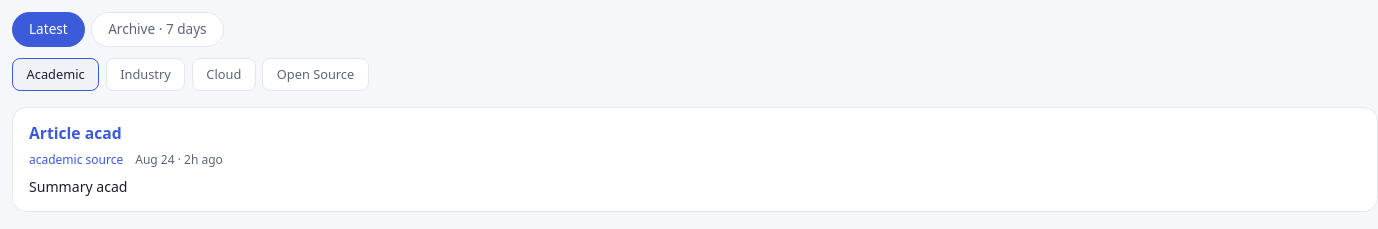
Scenario: NewsFeed — category filtering › shows the empty state when no articles have been ingested for a category yet
Step 1. Click the tab "Open Source" → coordinates (316, 75), box [262,58,369,91]
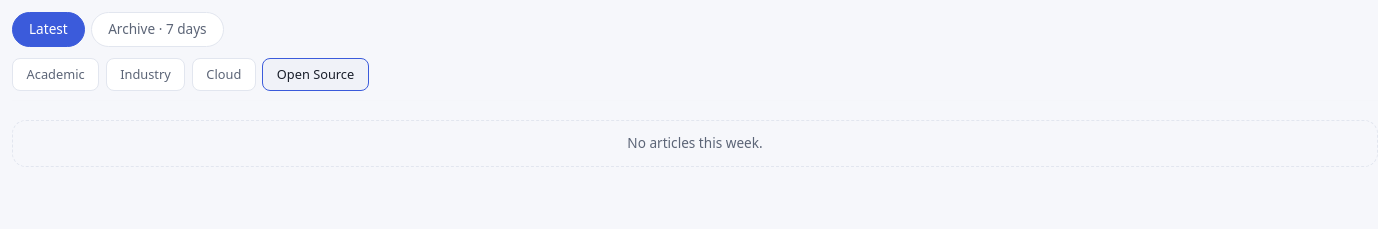
Expected: the text "No articles this week." is shown, [12,120,1377,167]
